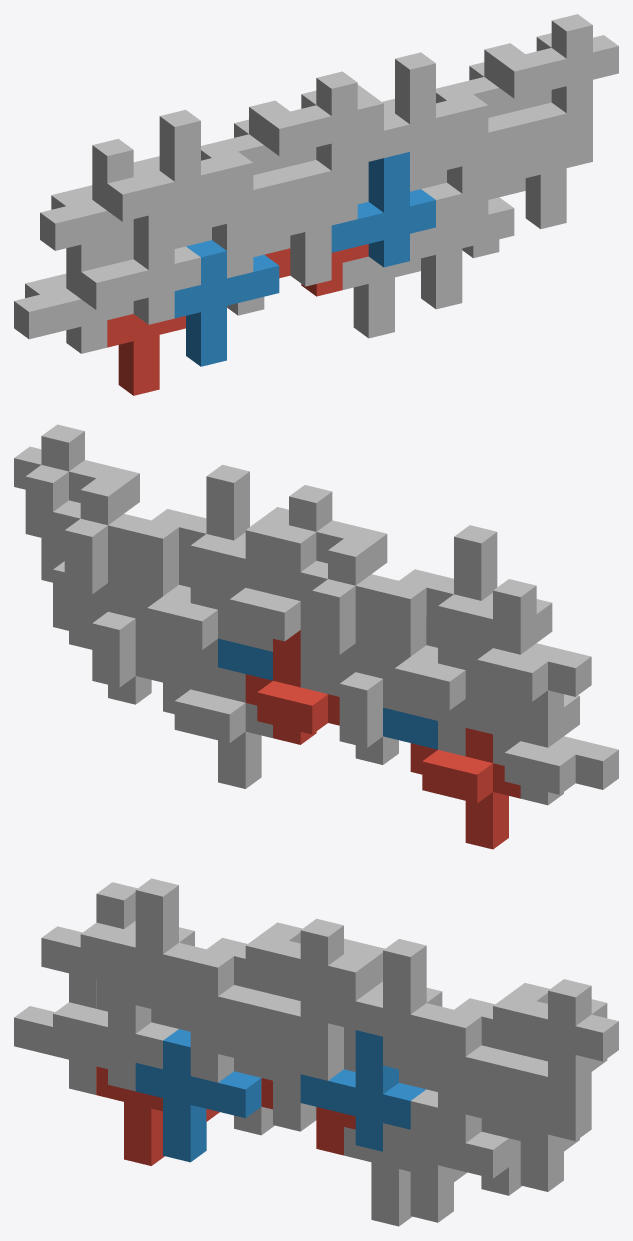
The model's file is tiling.obj.
3 renders of one model, top to bottom at view 1: azimuth 30°, elevation 25°; view 2: azimuth 150°, elevation 25°; view 3: azimuth 330°, elevation 25°, orthographic. The views are drawn at different scales.
Parts seen in each view (by area): view 1: copy_2_domain_4, copy_3_domain_8, copy_3_domain_4, copy_2_domain_2, copy_2_domain_8, copy_2_domain_6, copy_2_domain_1, copy_1_domain_6, copy_1_domain_4, copy_1_domain_8, copy_1_domain_2, copy_2_domain_3 (+10 smaller); view 2: copy_3_domain_3, copy_2_domain_3, copy_3_domain_7, copy_2_domain_1, copy_3_domain_8, copy_1_domain_1, copy_1_domain_5, copy_2_domain_4, copy_1_domain_3, copy_1_domain_7, copy_3_domain_4, copy_2_domain_7 (+12 smaller); view 3: copy_3_domain_8, copy_3_domain_4, copy_2_domain_4, copy_2_domain_8, copy_1_domain_8, copy_1_domain_4, copy_1_domain_2, copy_1_domain_6, copy_3_domain_6, copy_2_domain_2, copy_3_domain_2, copy_2_domain_6 (+12 smaller).
Boxes of the visible parts, x1,y1,x2,y2 form: copy_2_domain_4: (107, 109, 226, 236); copy_3_domain_8: (499, 14, 618, 140); copy_3_domain_4: (264, 71, 383, 197); copy_2_domain_2: (81, 209, 200, 324); copy_2_domain_8: (357, 52, 462, 178); copy_2_domain_6: (331, 152, 435, 267); copy_2_domain_1: (14, 238, 133, 353); copy_1_domain_6: (410, 183, 514, 309); copy_1_domain_4: (201, 151, 305, 278); copy_1_domain_8: (436, 94, 540, 220); copy_1_domain_2: (174, 240, 279, 366); copy_2_domain_3: (40, 139, 133, 265); copy_3_domain_3: (300, 538, 426, 671); copy_2_domain_3: (465, 579, 591, 712); copy_3_domain_7: (53, 478, 178, 611); copy_2_domain_1: (493, 690, 618, 805); copy_3_domain_8: (14, 424, 139, 556); copy_1_domain_1: (410, 728, 520, 849); copy_1_domain_5: (163, 667, 272, 788); copy_2_domain_4: (426, 525, 552, 647); copy_1_domain_3: (383, 634, 492, 756); copy_1_domain_7: (135, 574, 245, 695); copy_3_domain_4: (262, 485, 387, 600); copy_2_domain_7: (218, 518, 312, 651); copy_3_domain_8: (493, 979, 618, 1112); copy_3_domain_4: (245, 918, 371, 1051); copy_2_domain_4: (80, 878, 205, 1011); copy_2_domain_8: (328, 939, 453, 1071); copy_1_domain_8: (410, 1010, 535, 1142); copy_1_domain_4: (163, 949, 288, 1082); copy_1_domain_2: (135, 1029, 261, 1162); copy_1_domain_6: (383, 1089, 508, 1222); copy_3_domain_6: (465, 1058, 591, 1191); copy_2_domain_2: (53, 969, 178, 1091); copy_3_domain_2: (218, 998, 343, 1131); copy_2_domain_6: (300, 1030, 425, 1151).
Size of the model in its own units: 22 by 10 by 3.
